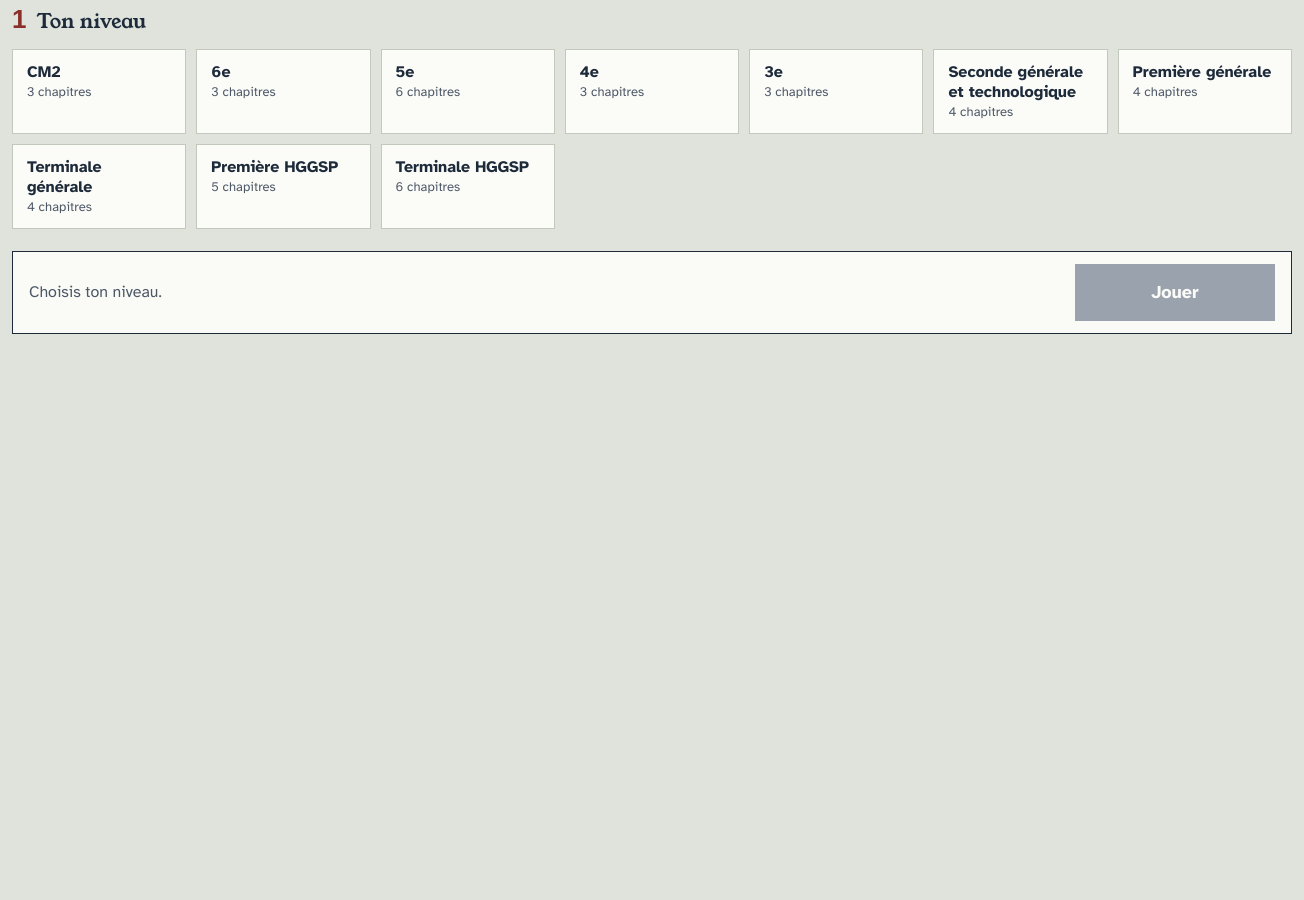
Scenario: le scolaire utilise les unions réelles, pas la somme des chapitres du catalogue
Click the button "CM2 3 chapitres" at (99, 91), box top-left (12, 49), bottom-right (186, 134)
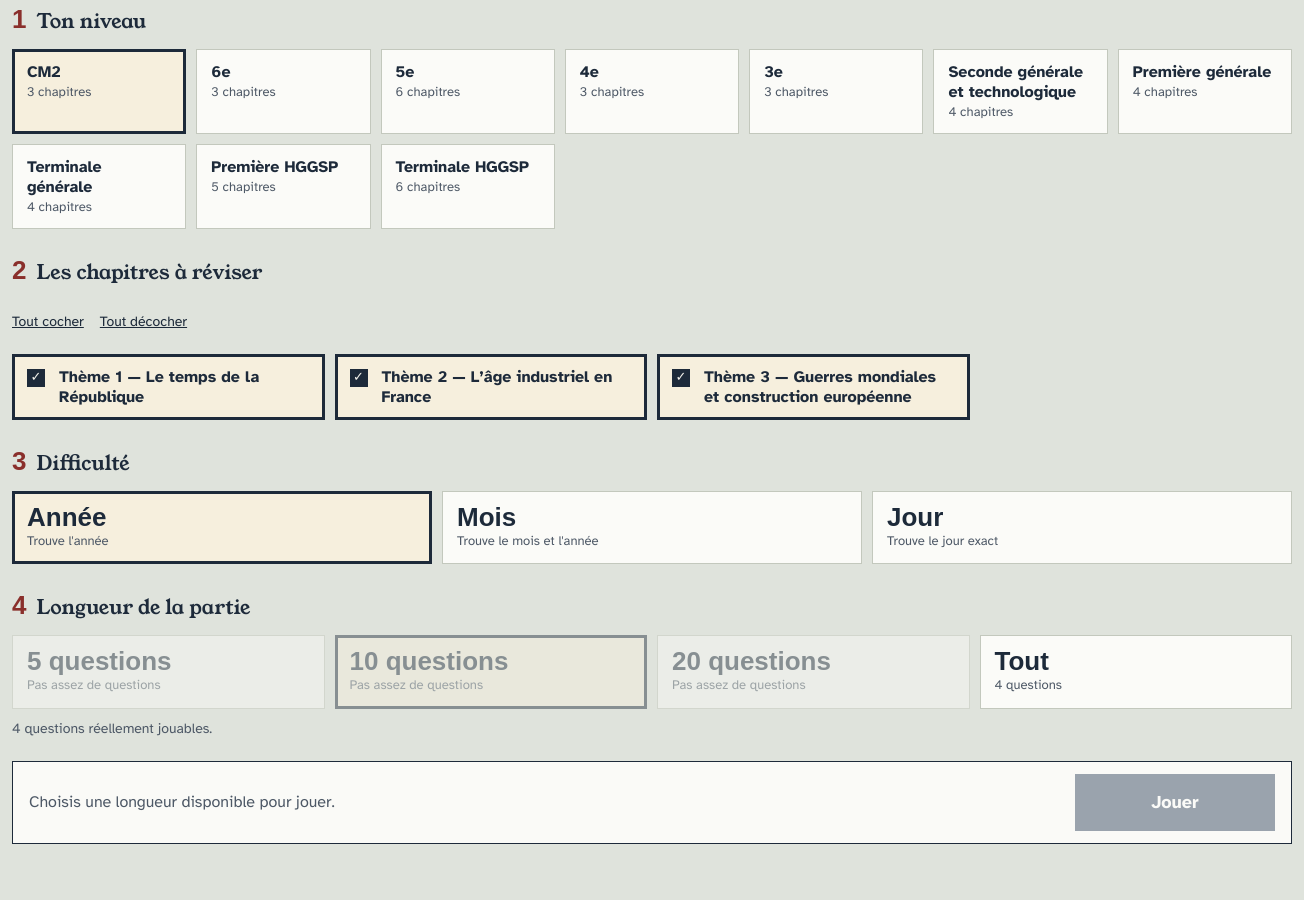
Result: the text "4 questions réellement jouables." is shown at top-left (12, 720), bottom-right (212, 737)
Result: the button "5 questions Pas assez de questions" is disabled at top-left (12, 635), bottom-right (324, 709)
Click the button "Tout 4 questions" at (1022, 661), box top-left (980, 635), bottom-right (1292, 709)
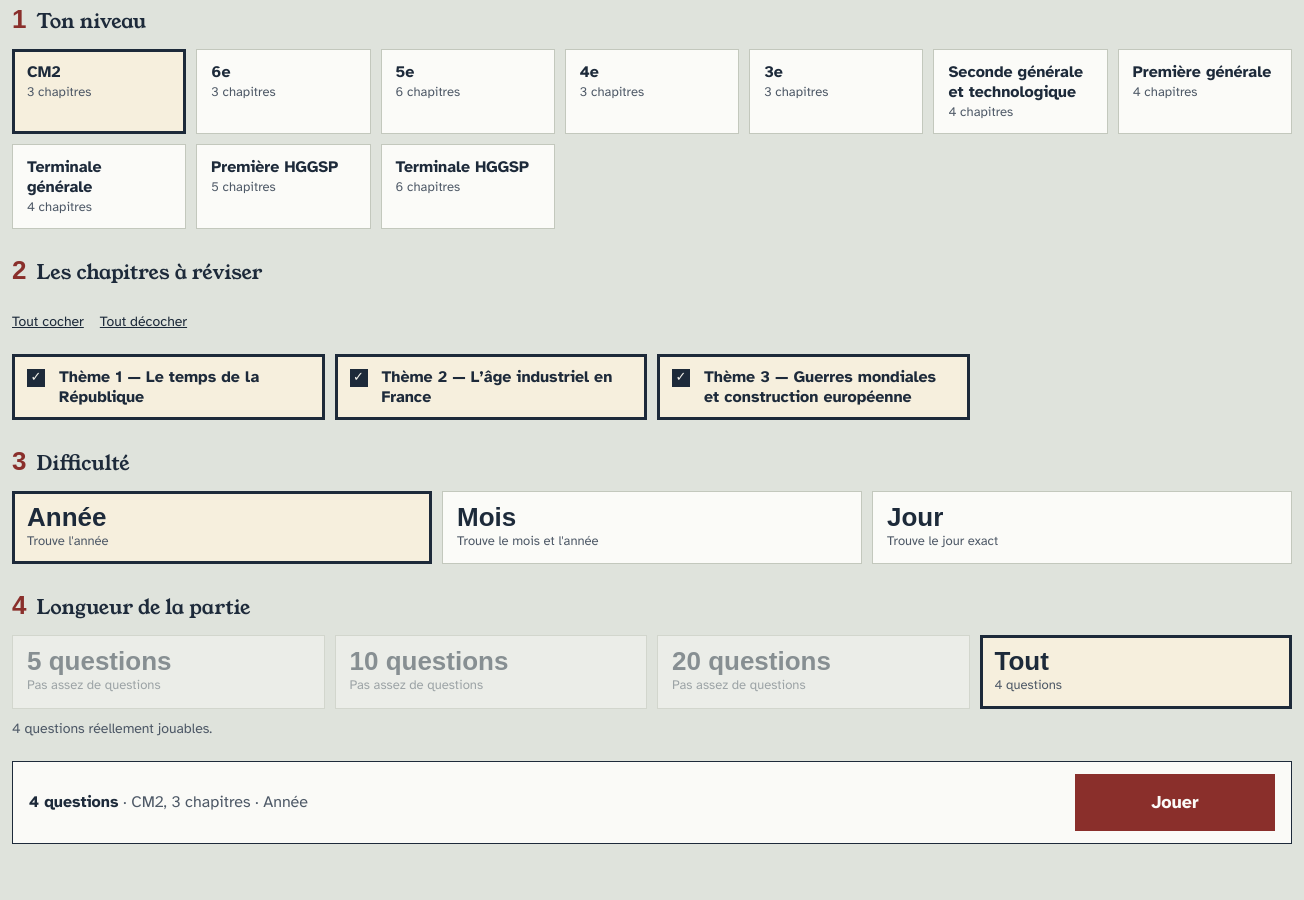
Result: the button "Jouer" is enabled at top-left (1075, 774), bottom-right (1275, 831)
